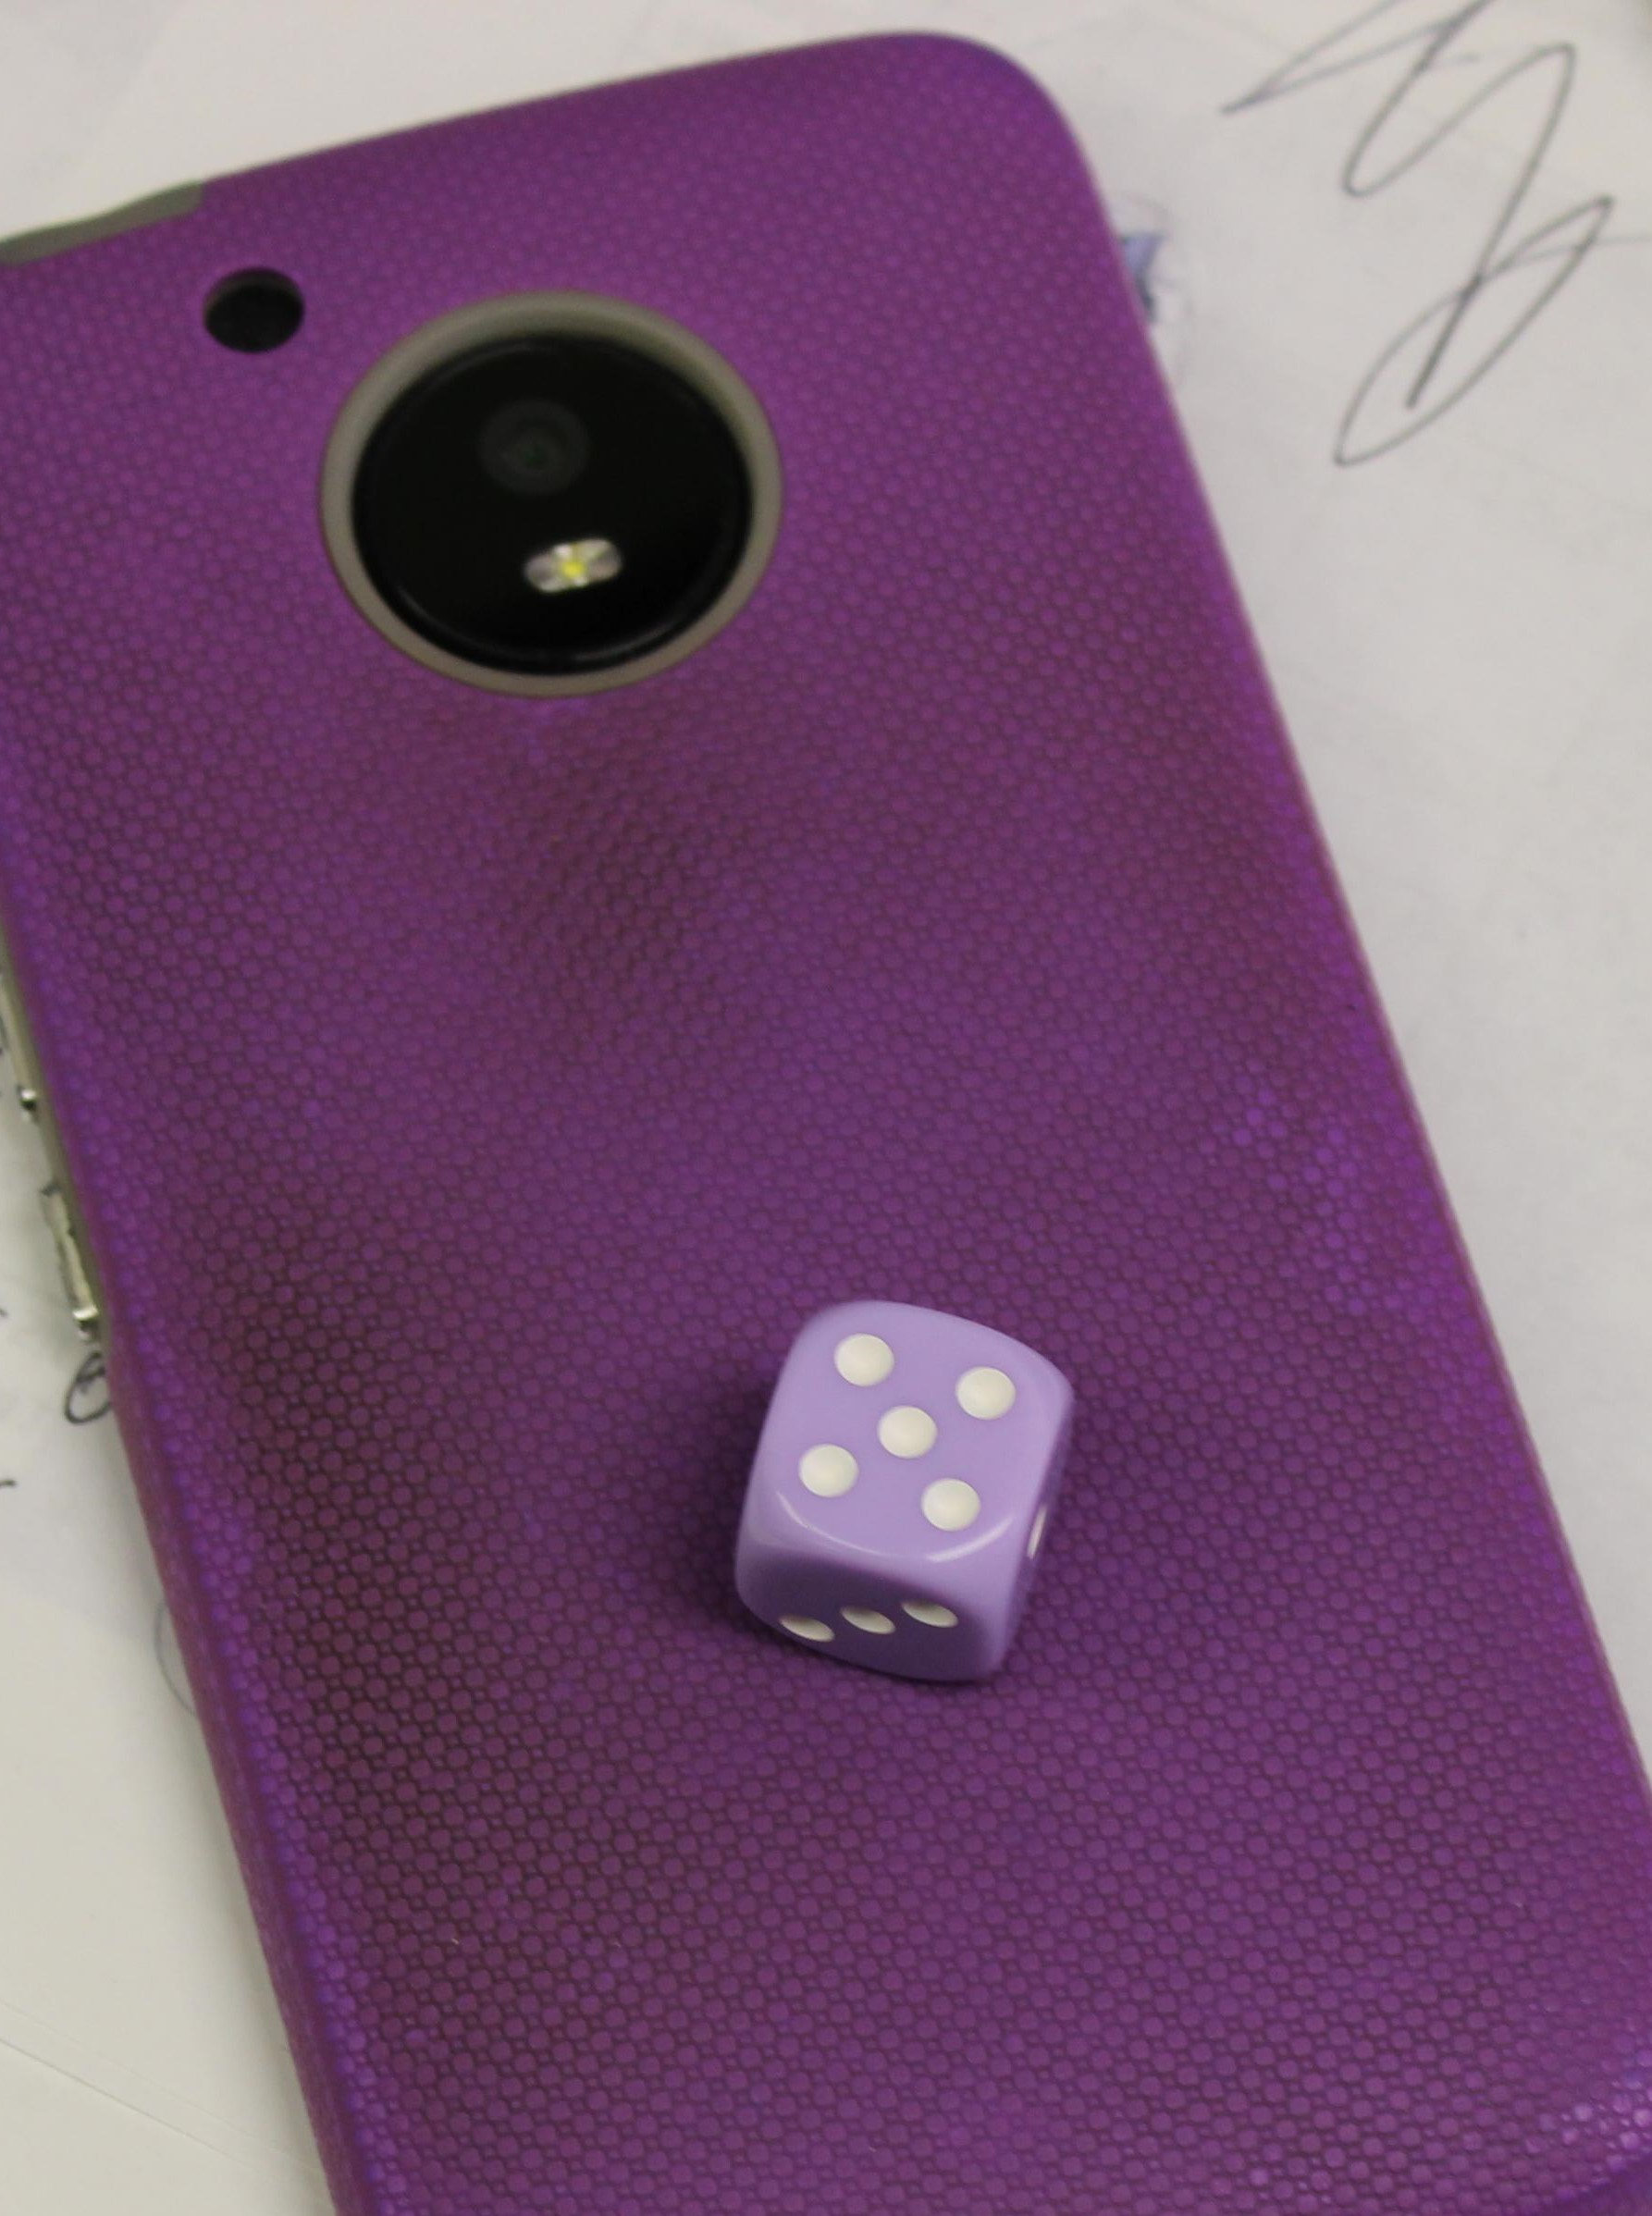lavenderDie: (652, 1239, 1124, 1728)
